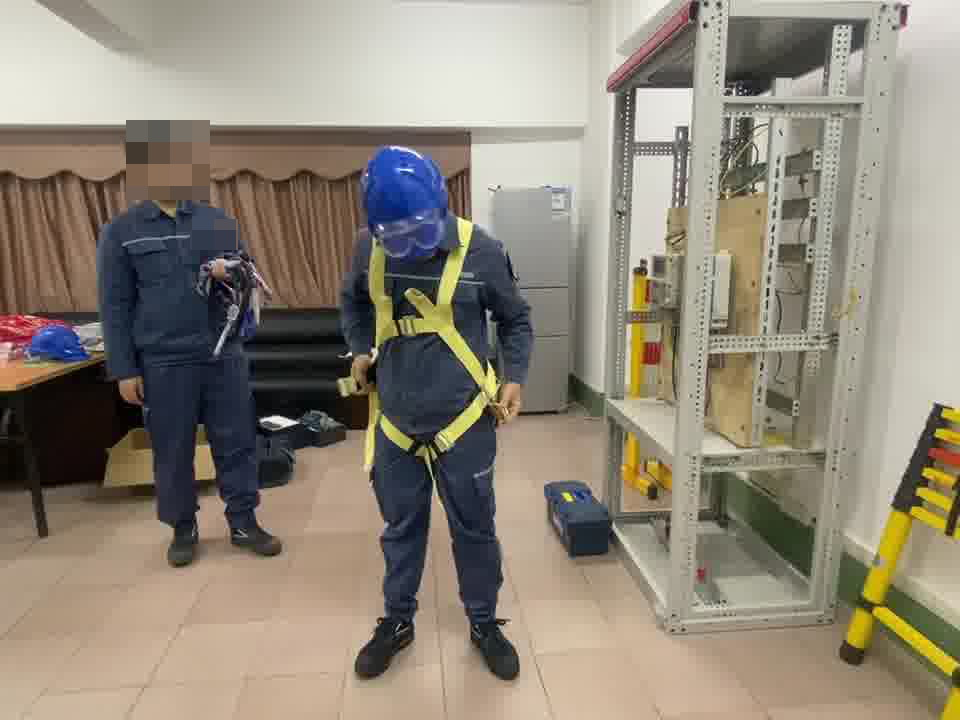downsuit: (371, 411, 509, 626), (143, 371, 264, 528)
halt: (361, 147, 450, 258)
hand: (347, 355, 377, 399), (499, 383, 522, 422), (118, 374, 144, 406)
person: (341, 144, 538, 678), (100, 125, 282, 559)
safebelt: (356, 216, 502, 476)
unhalt: (125, 127, 194, 200)
upsuit: (347, 217, 530, 418), (102, 201, 257, 365)
